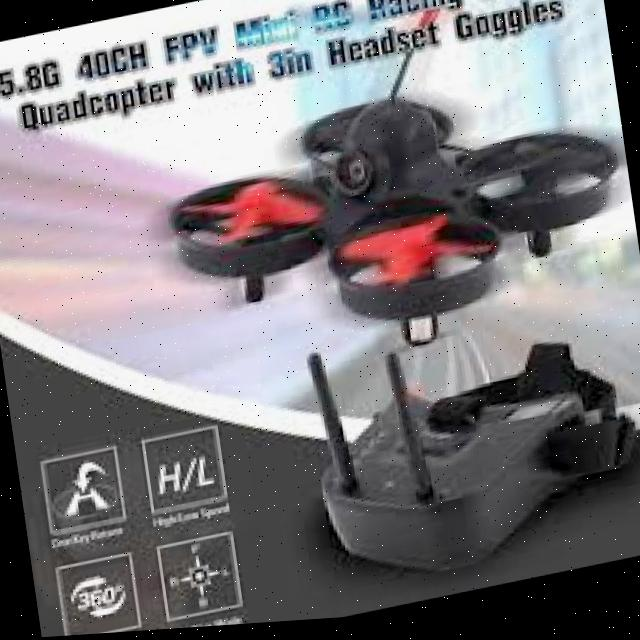drone: (117, 41, 640, 397)
